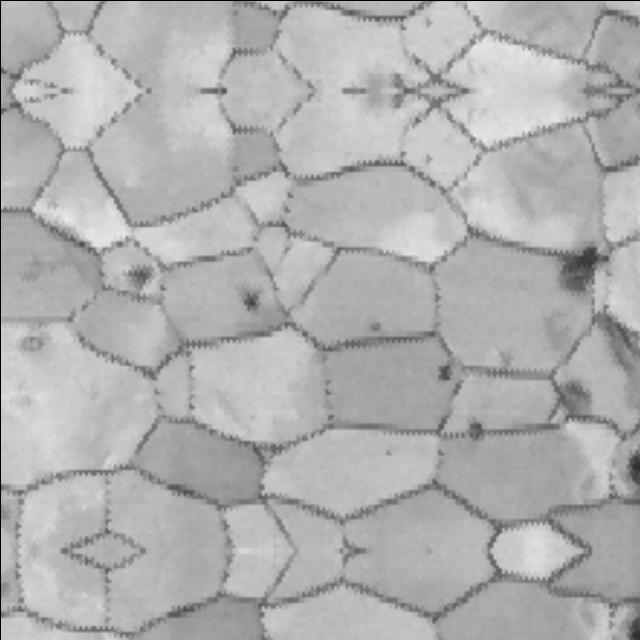good_void: (545, 241, 614, 295), (597, 308, 637, 378), (557, 372, 599, 416), (13, 324, 53, 358), (354, 90, 406, 116), (354, 62, 406, 88), (490, 343, 529, 372), (624, 444, 640, 488), (242, 288, 267, 315), (127, 260, 151, 287), (624, 610, 640, 640), (466, 416, 484, 442), (374, 440, 394, 461), (365, 316, 387, 332), (438, 360, 451, 379)
